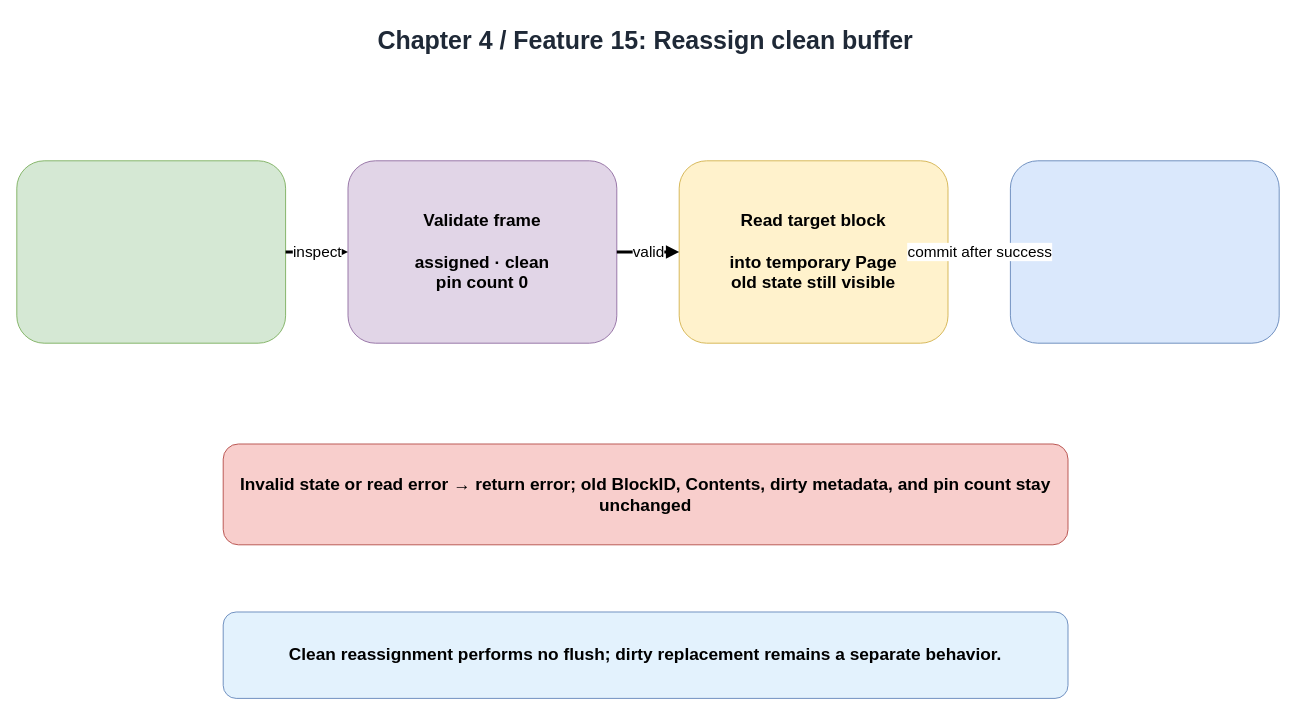
Image size: 1296x715. Some labels were removed from this diagram. Each missing label, with the centre of its shape:
"Current assignment BlockID = old Contents = old Page" goes at (151,251).
"New assignment BlockID = target Contents = target Page" goes at (1144,251).
